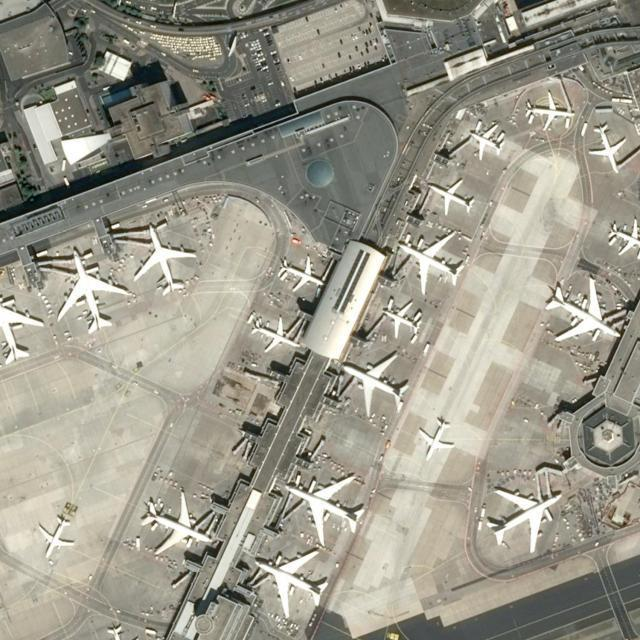Aircraft: (52, 242, 130, 335), (277, 471, 365, 548), (481, 480, 567, 556), (540, 273, 626, 348), (249, 543, 332, 618), (137, 483, 217, 559), (126, 216, 200, 297), (338, 348, 416, 419), (393, 226, 470, 295), (0, 292, 46, 365), (423, 172, 479, 220), (584, 119, 630, 176), (522, 85, 576, 133), (247, 312, 303, 355), (32, 510, 76, 562), (275, 252, 329, 294), (414, 411, 456, 463), (378, 298, 428, 340), (465, 120, 510, 162), (606, 213, 640, 257), (94, 622, 142, 640)
